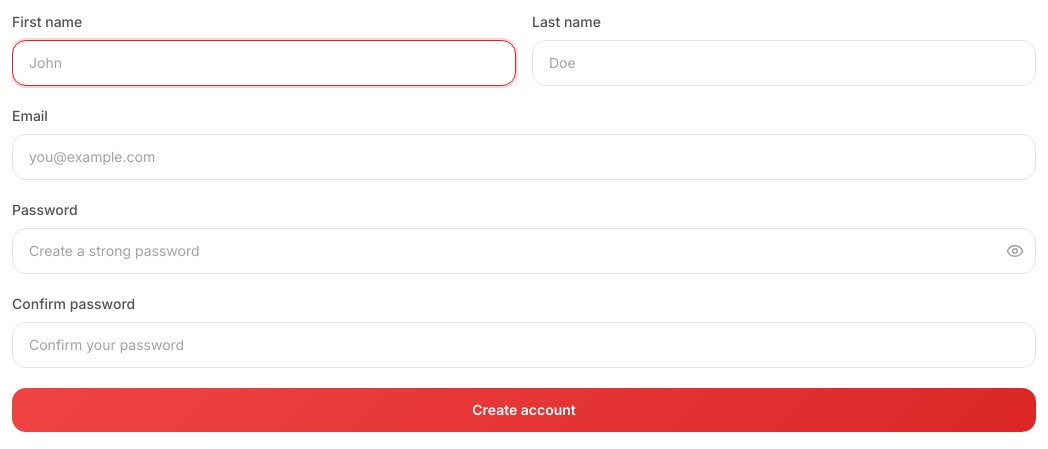
Test: RegisterForm › toggles password visibility
The image size is (1048, 449).
Click the button named "Show password": click(1015, 251) [1006, 242, 1024, 260]
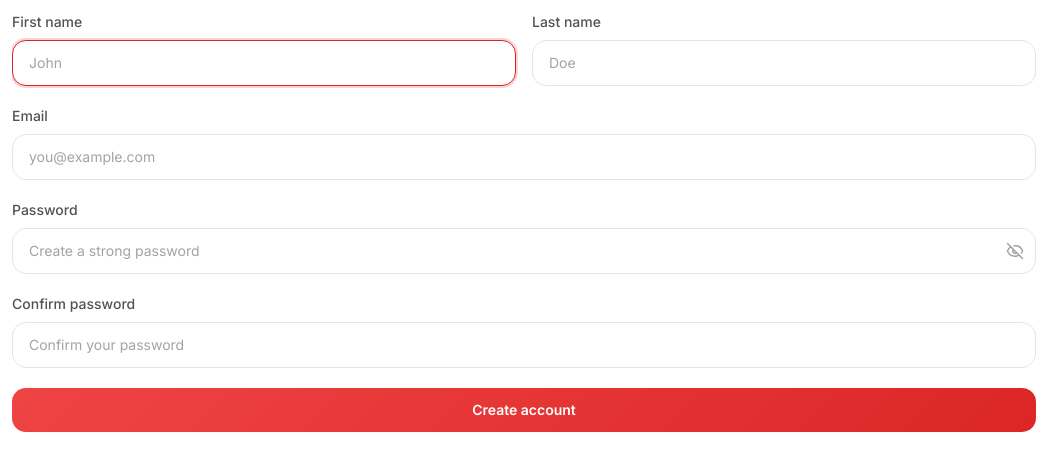
Check: the button named "Hide password" is shown, box [1006, 242, 1024, 260]
